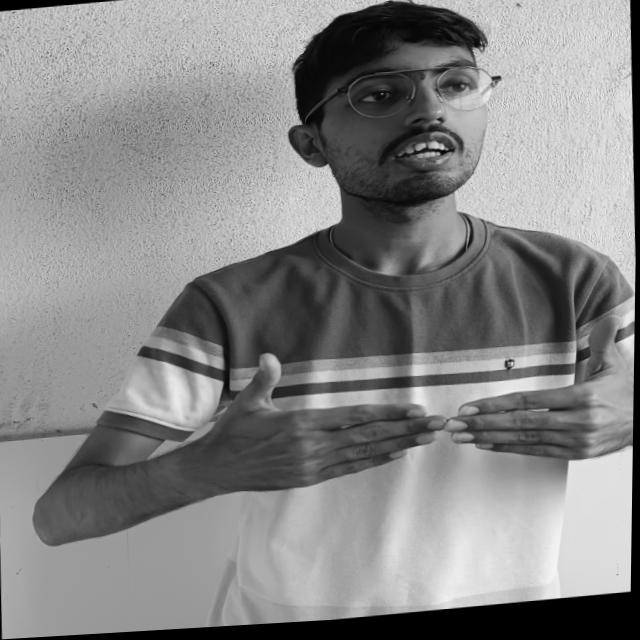Night: (190, 308, 636, 509)
